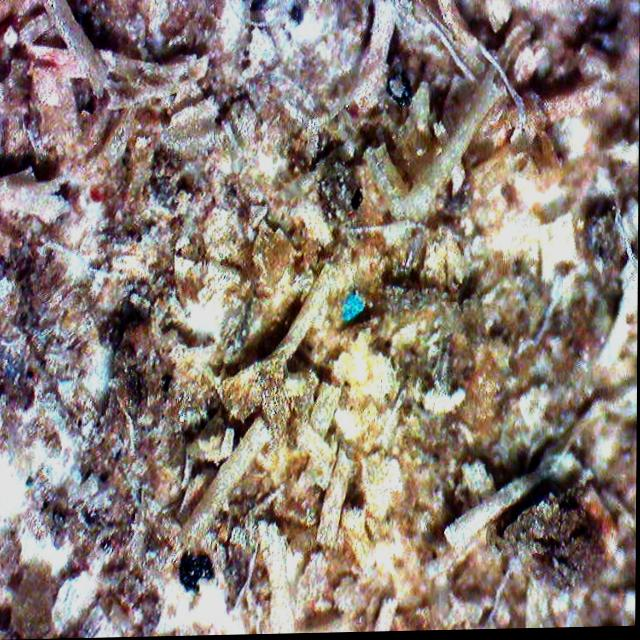microplastic: (341, 292, 367, 326)
